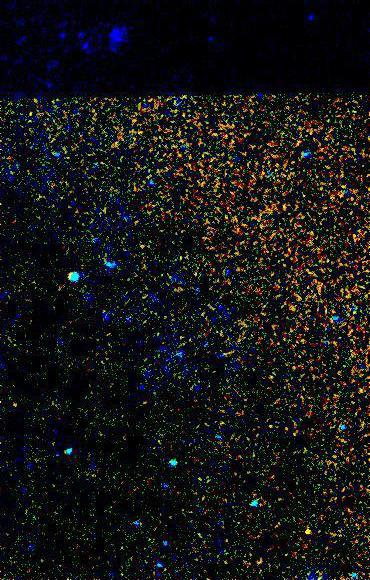star: (296, 517, 326, 547)
